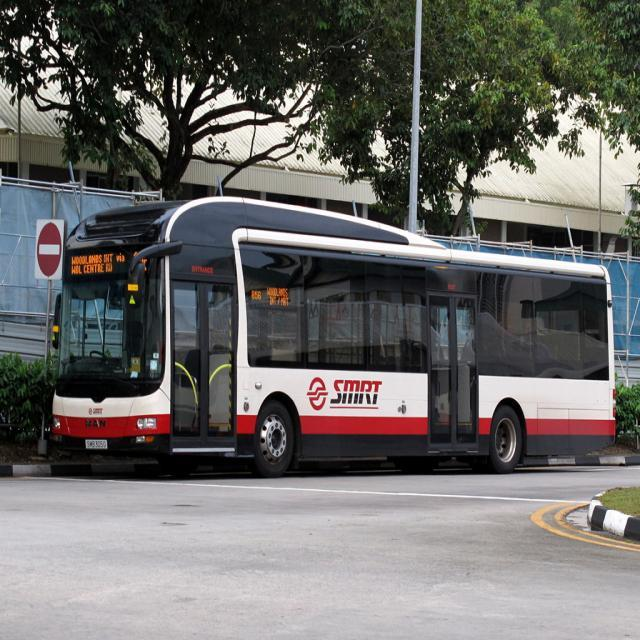motorcycle: (52, 200, 620, 474)
